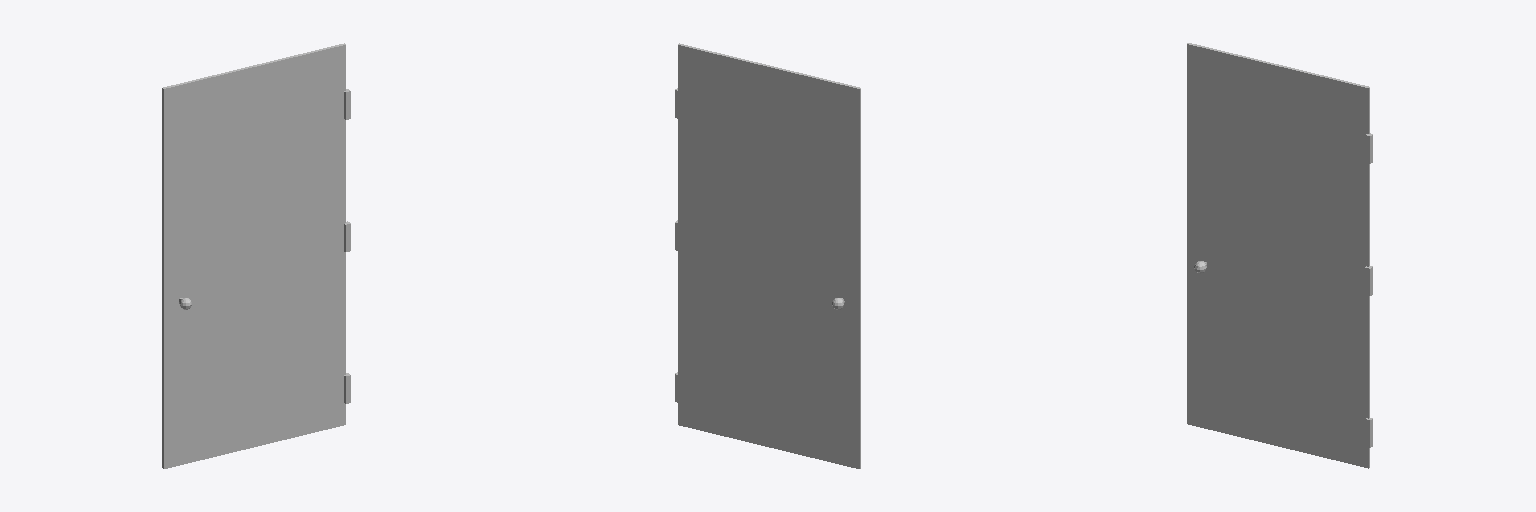
File: door.obj
The picture shows the model from 3 angles: view 1: azimuth 30°, elevation 25°; view 2: azimuth 150°, elevation 25°; view 3: azimuth 330°, elevation 25°; orthographic projection.
Parts seen in each view (by area): view 1: Cube.023, Sphere.001; view 2: Cube.023; view 3: Cube.023, Sphere.001.
Part boxes in pixels (bbox=[...]): Cube.023: bbox=[162, 43, 345, 468]; Sphere.001: bbox=[179, 89, 350, 403]; Cube.023: bbox=[678, 43, 860, 468]; Cube.023: bbox=[1187, 43, 1369, 468]; Sphere.001: bbox=[1194, 133, 1372, 447].
Size of the model in its own units: 1.63 by 3.21 by 0.2395.